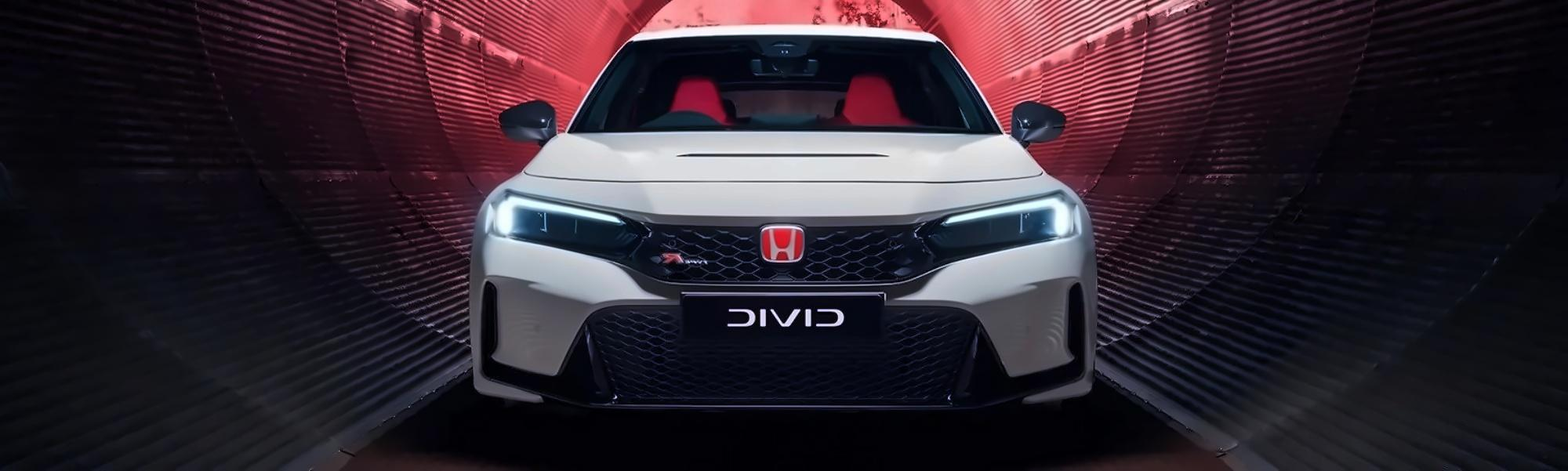Car hood: (520, 126, 1054, 187)
Front bumper: (457, 222, 1111, 417)
Headlight - -L-: (924, 179, 1086, 260)
Headlight - -R-: (482, 175, 658, 260)
Side mirror - -L-: (998, 86, 1081, 161)
Side mirror - -R-: (490, 86, 575, 154)
